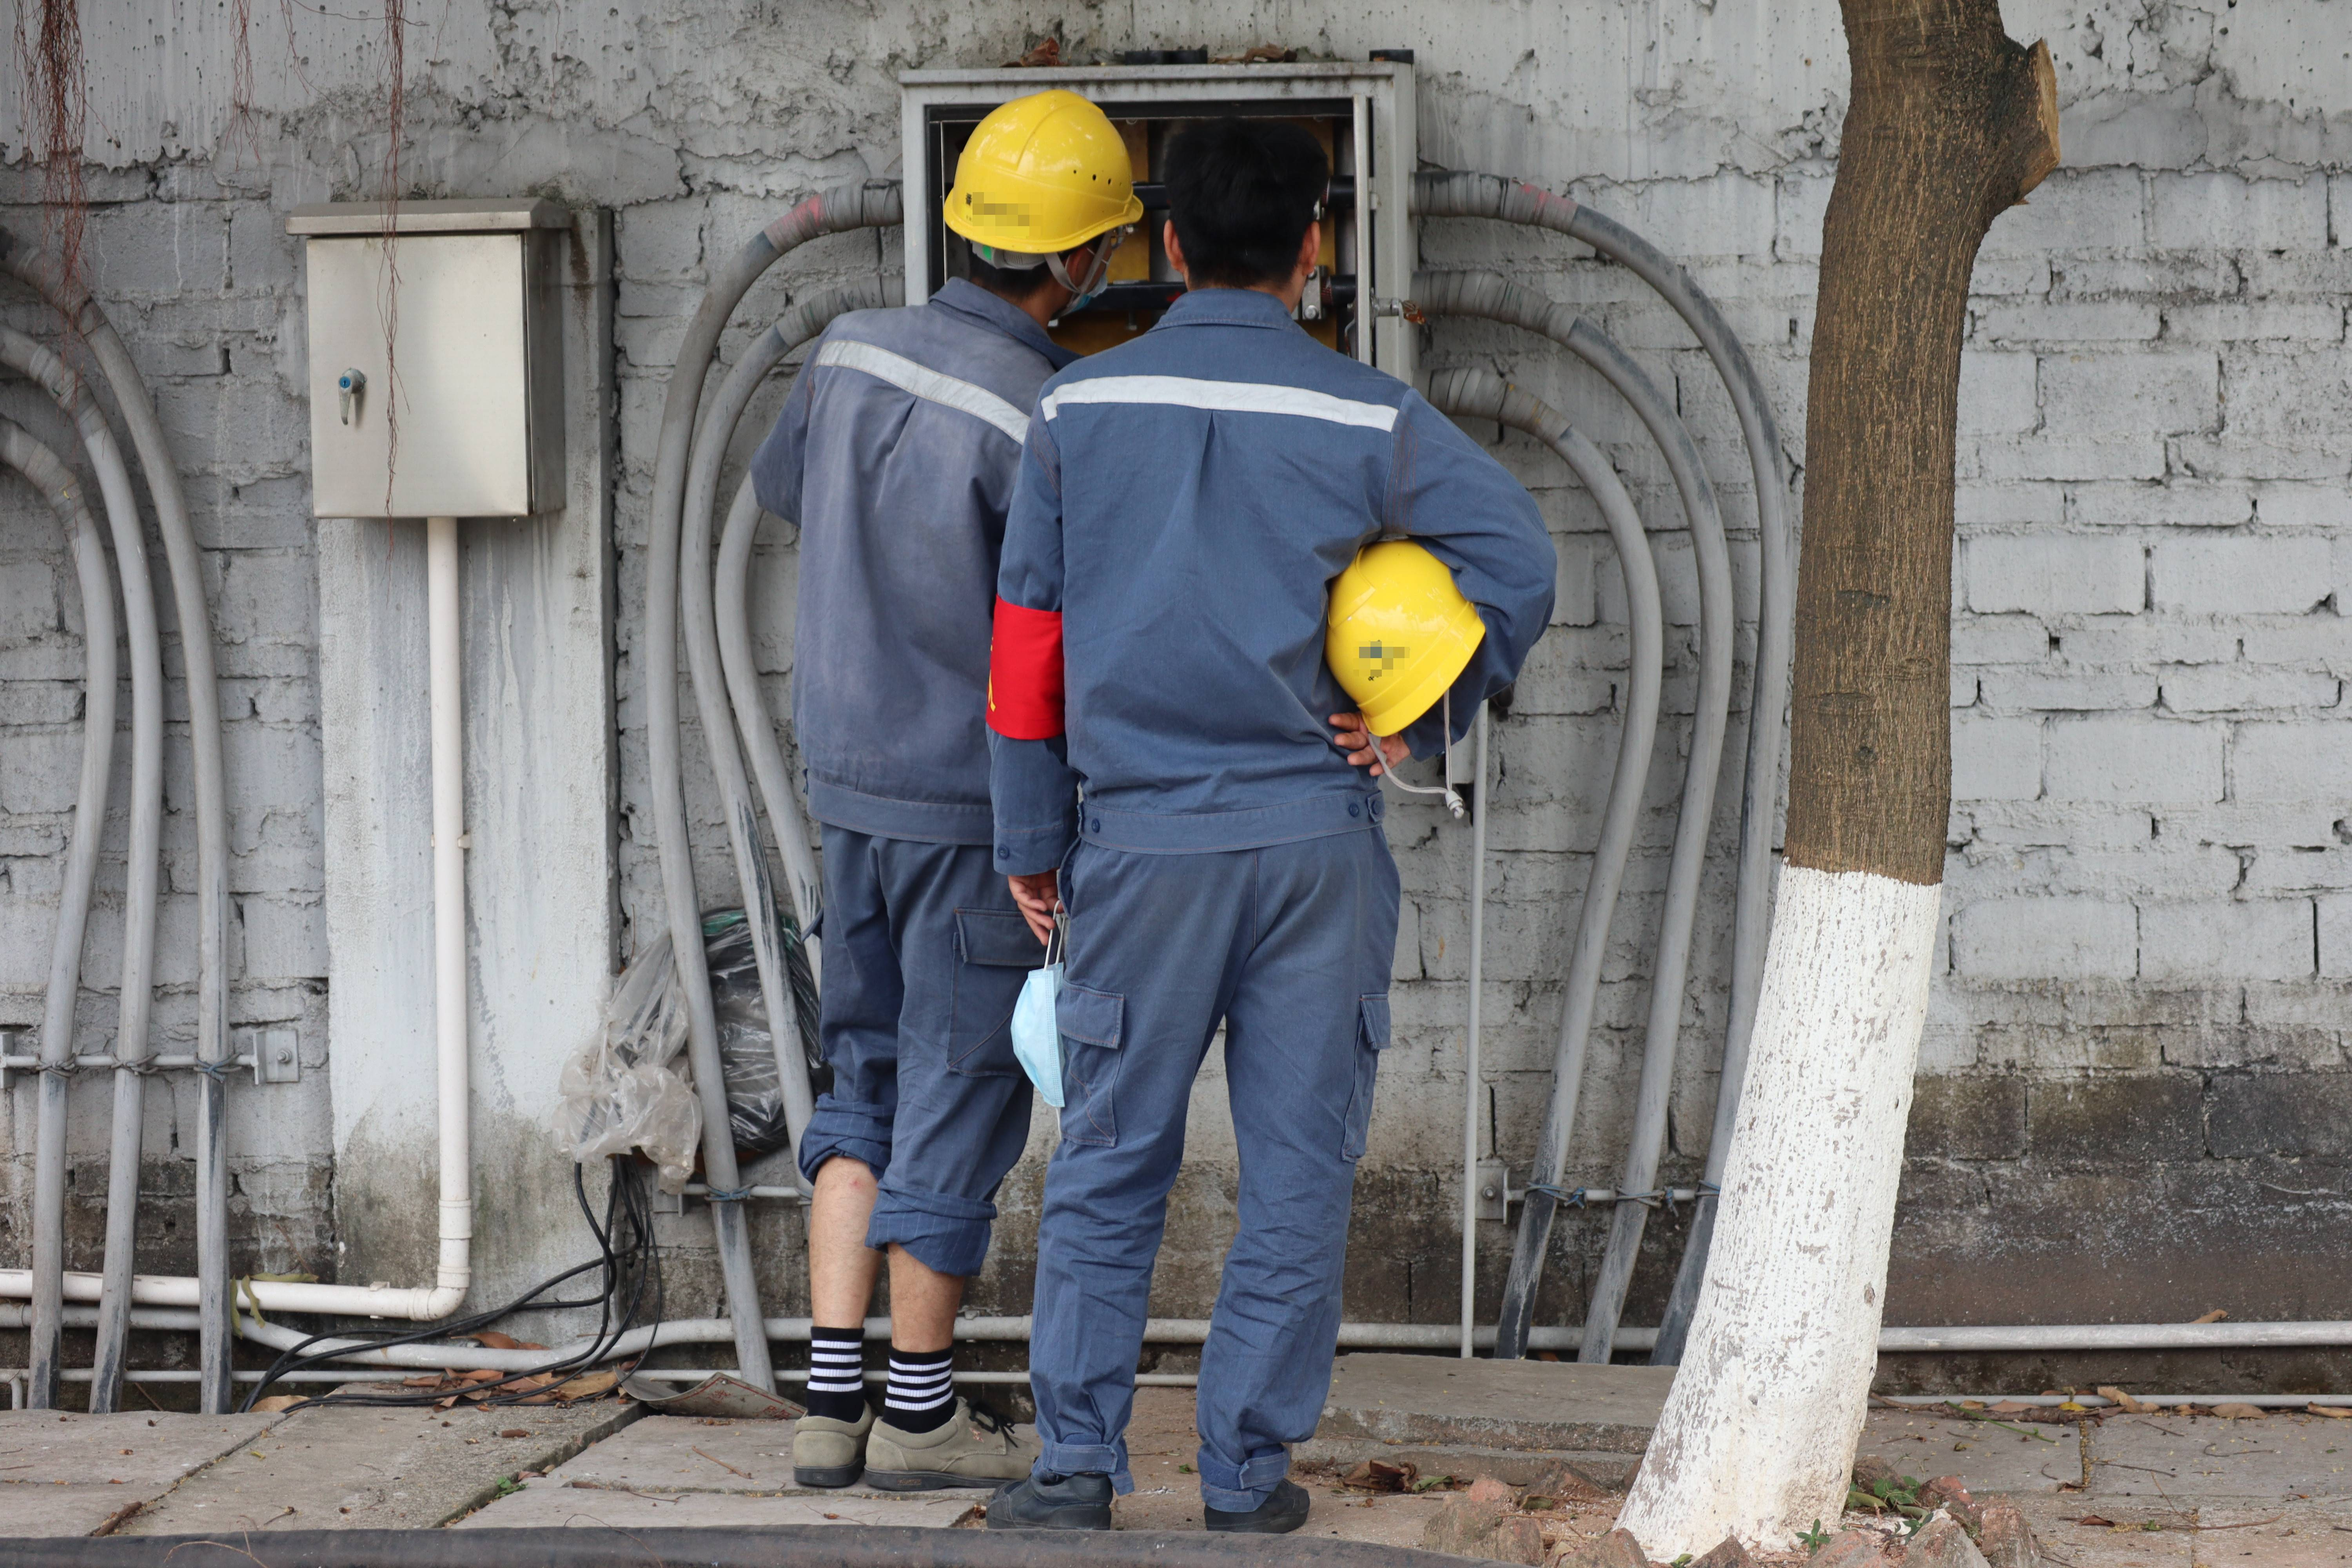downsuit: (1025, 856, 1404, 1484), (798, 843, 1032, 1257)
upsuit: (1038, 296, 1552, 843), (751, 289, 1039, 821)
wrongbottom: (861, 1200, 994, 1391), (801, 1110, 877, 1332)
